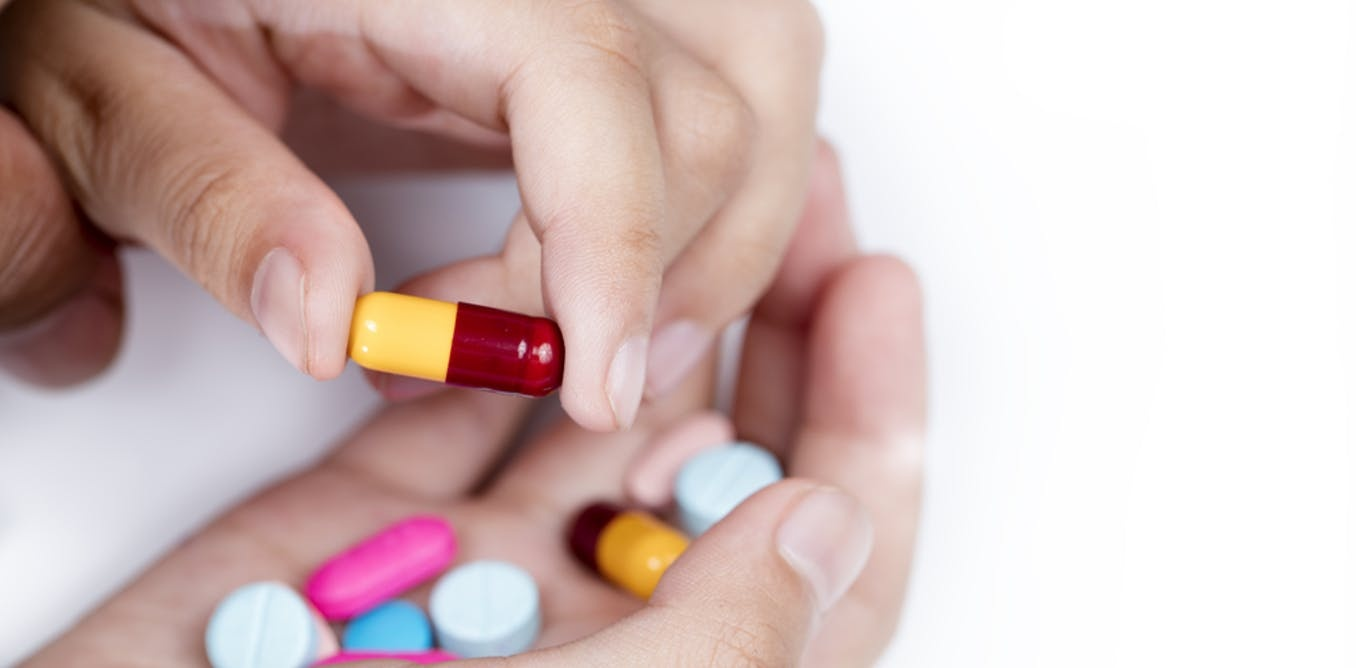pills: (324, 285, 602, 376), (656, 432, 796, 524), (567, 493, 690, 590), (427, 556, 542, 653)
